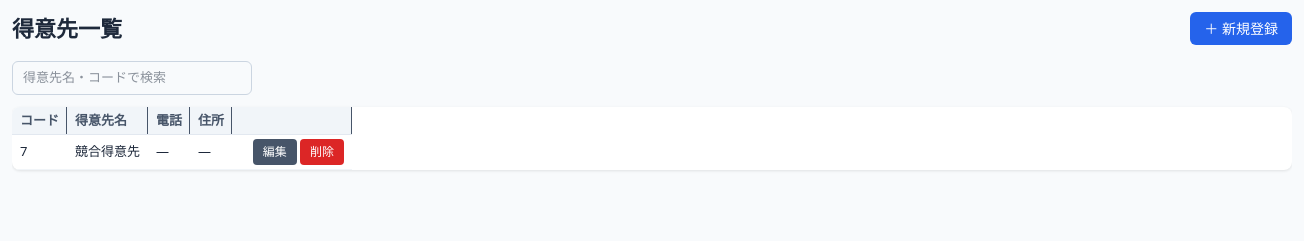
Test: R-0167 得意先一覧の楽観的ロック › 削除時にupdated_atを送り、409なら案内を出して一覧を再取得する
This screenshot has width=1304, height=241.
Check: the heading "得意先一覧" is shown, box x1=12 y1=12 x2=122 y2=45
Click the button "削除": [322, 152] box x1=300 y1=139 x2=344 y2=165
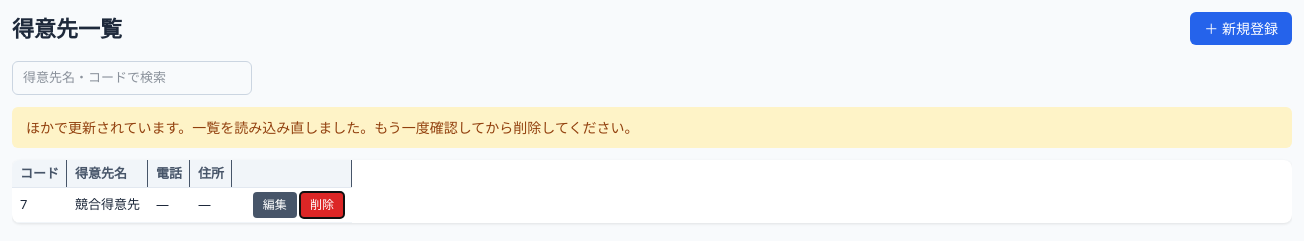
Check: the text "ほかで更新されています。一覧を読み込み直しました。もう一度確認してから削除してください。" is shown, box x1=12 y1=106 x2=1292 y2=148
